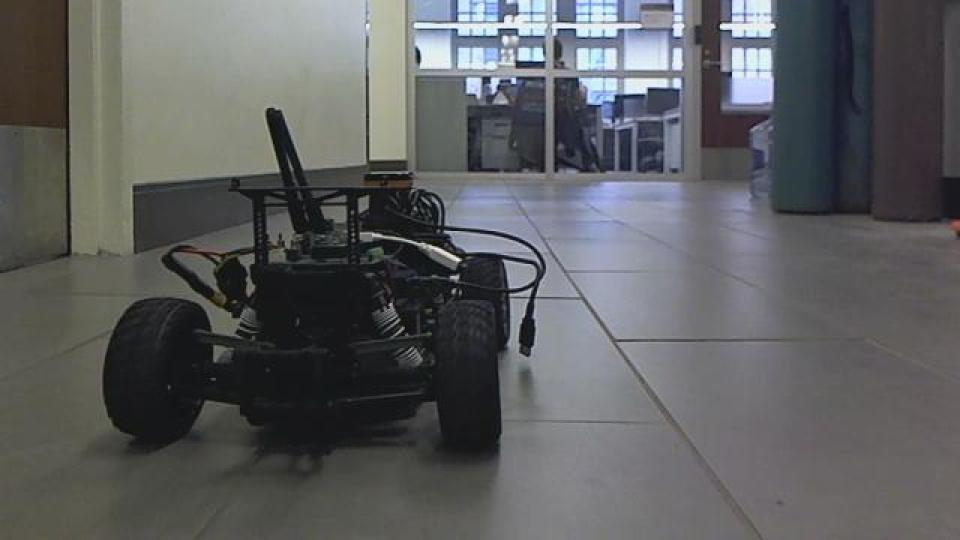car: (98, 103, 548, 459)
